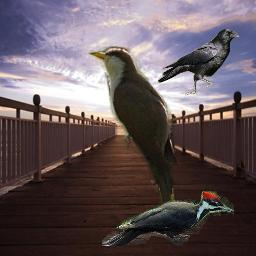Crow: (158, 28, 242, 96)
Cuckoo: (88, 46, 181, 234)
Woodpecker: (102, 191, 234, 246)
